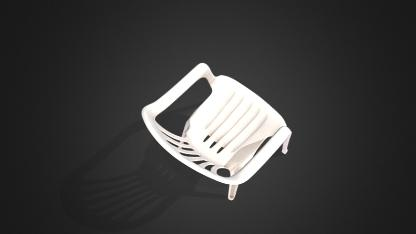chair: (138, 60, 294, 200)
